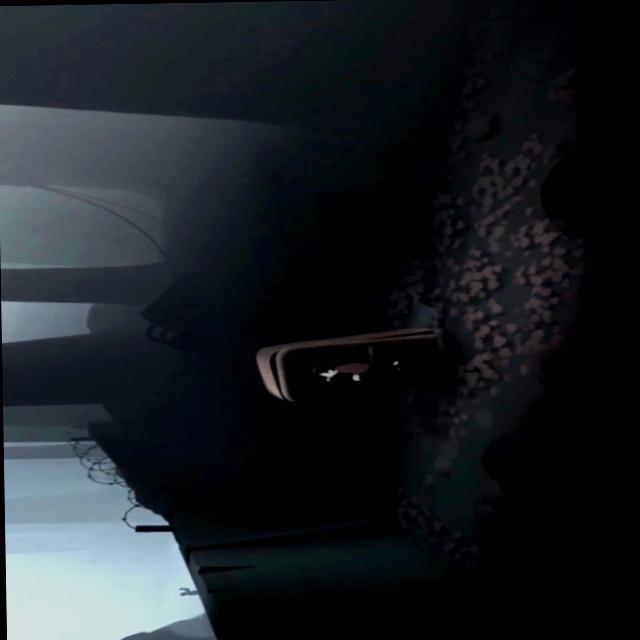boy: (312, 353, 406, 385)
human: (178, 587, 198, 595)
